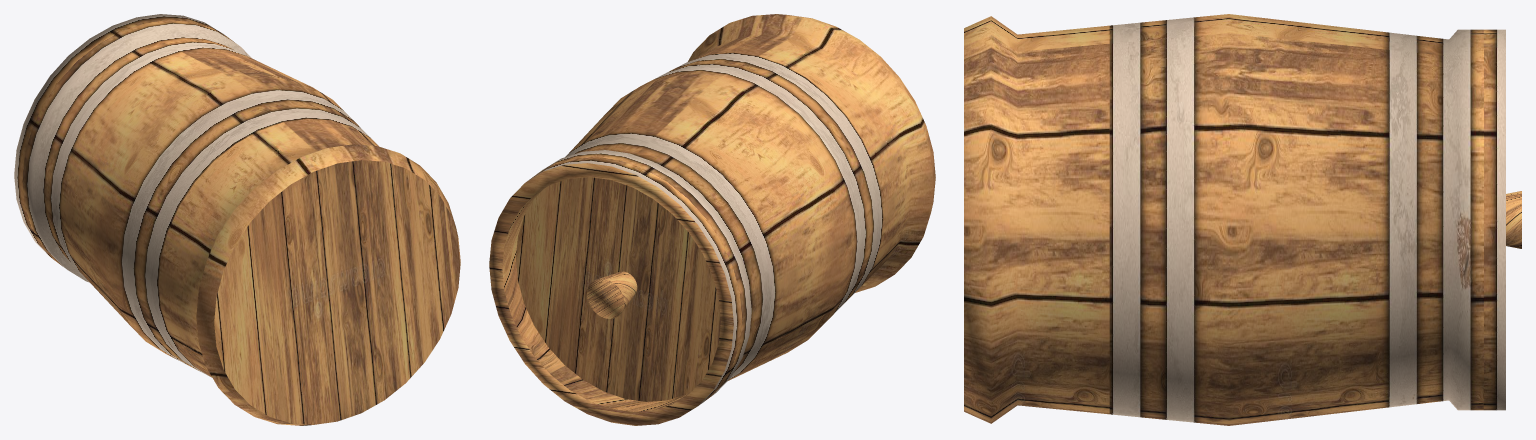
The model's file is barril.dae.
3 views of the same model, side by side, from view 1: azimuth 30°, elevation 25°; view 2: azimuth 150°, elevation 25°; view 3: azimuth 270°, elevation 25° (orthographic). The views are drawn at different scales.
Parts seen in each view (by area): view 1: barril; view 2: barril; view 3: barril.
Boxes of the visible parts, left/top/right/bottom form: barril: left=14, top=14, right=460, bottom=425; barril: left=489, top=14, right=935, bottom=425; barril: left=964, top=14, right=1521, bottom=425.
Size of the model in its own units: 2.15 by 2.9 by 2.15.
